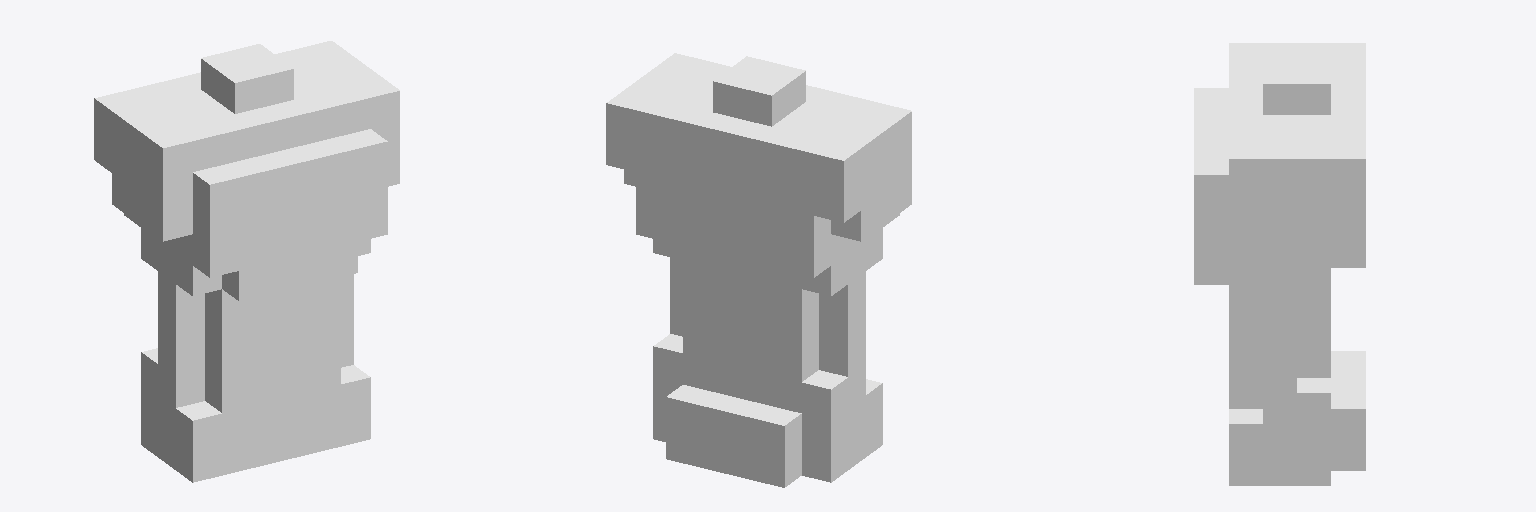
Rendered from char-83-chest_0.obj.
3 renders of one model, left to right at view 1: azimuth 30°, elevation 25°; view 2: azimuth 150°, elevation 25°; view 3: azimuth 270°, elevation 25°, orthographic.
Visible parts, largest first — view 1: chest_0; view 2: chest_0; view 3: chest_0.
Boxes of the visible parts, <box> form: chest_0: <box>94,41,399,482</box>; chest_0: <box>606,53,911,487</box>; chest_0: <box>1194,43,1365,485</box>.
Size of the model in its own units: 0.8 by 1.2 by 0.5.